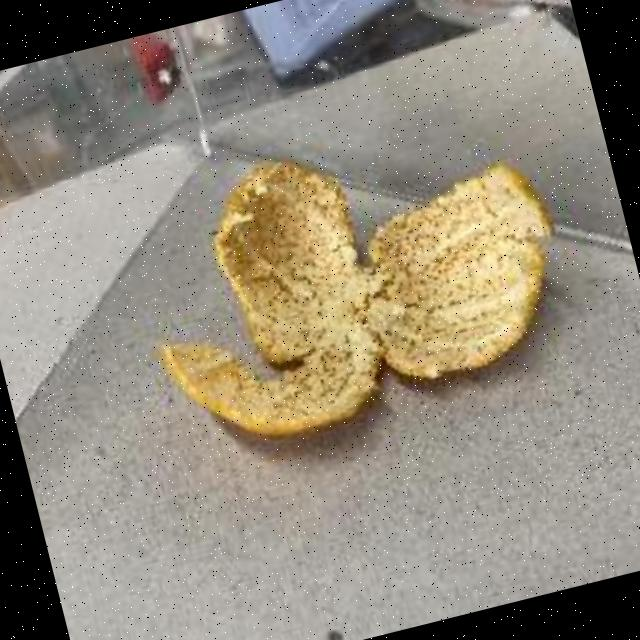orange-peel: (116, 92, 592, 468)
